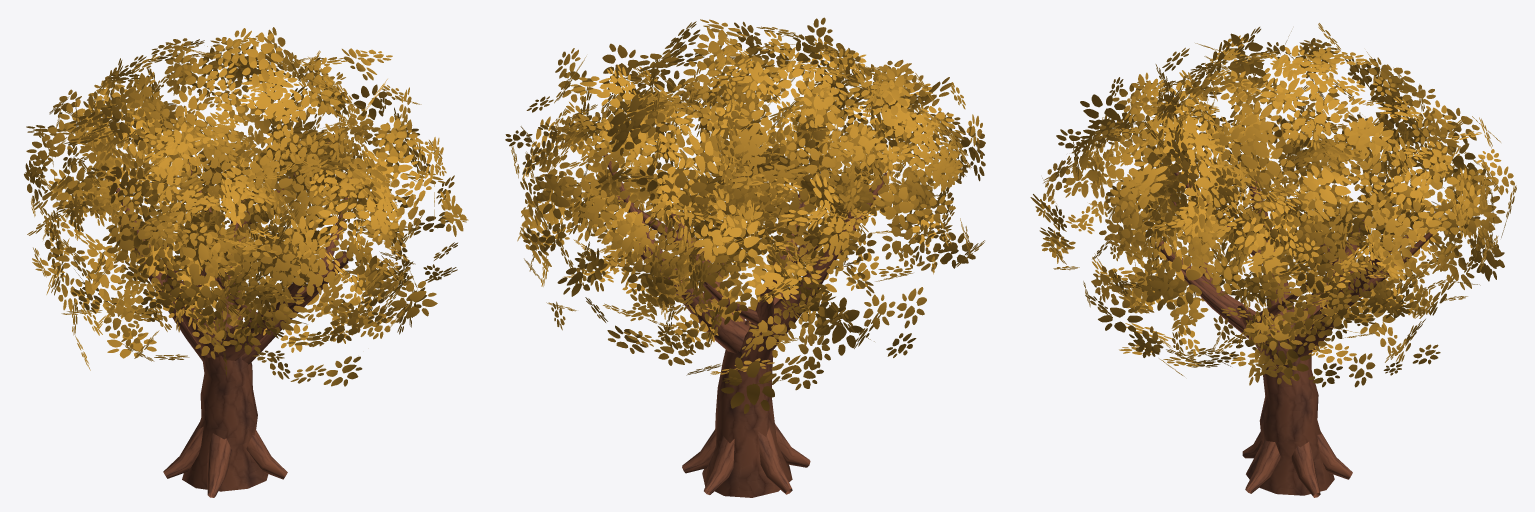
File: oak_autumn.gltf
The picture shows the model from 3 angles, left to right: view 1: azimuth 30°, elevation 25°; view 2: azimuth 150°, elevation 25°; view 3: azimuth 270°, elevation 25°; orthographic projection. The views are drawn at different scales.
Visible parts, largest first — view 1: oak_autumn; view 2: oak_autumn; view 3: oak_autumn.
Boxes of the visible parts, x1,y1,x2,y2 form: oak_autumn: [24, 27, 468, 497]; oak_autumn: [505, 17, 985, 497]; oak_autumn: [1030, 23, 1516, 497].
Bounding box in the file's own units: 8.76 × 9.18 × 9.32.
Materials: 2 (2 with a texture image).
